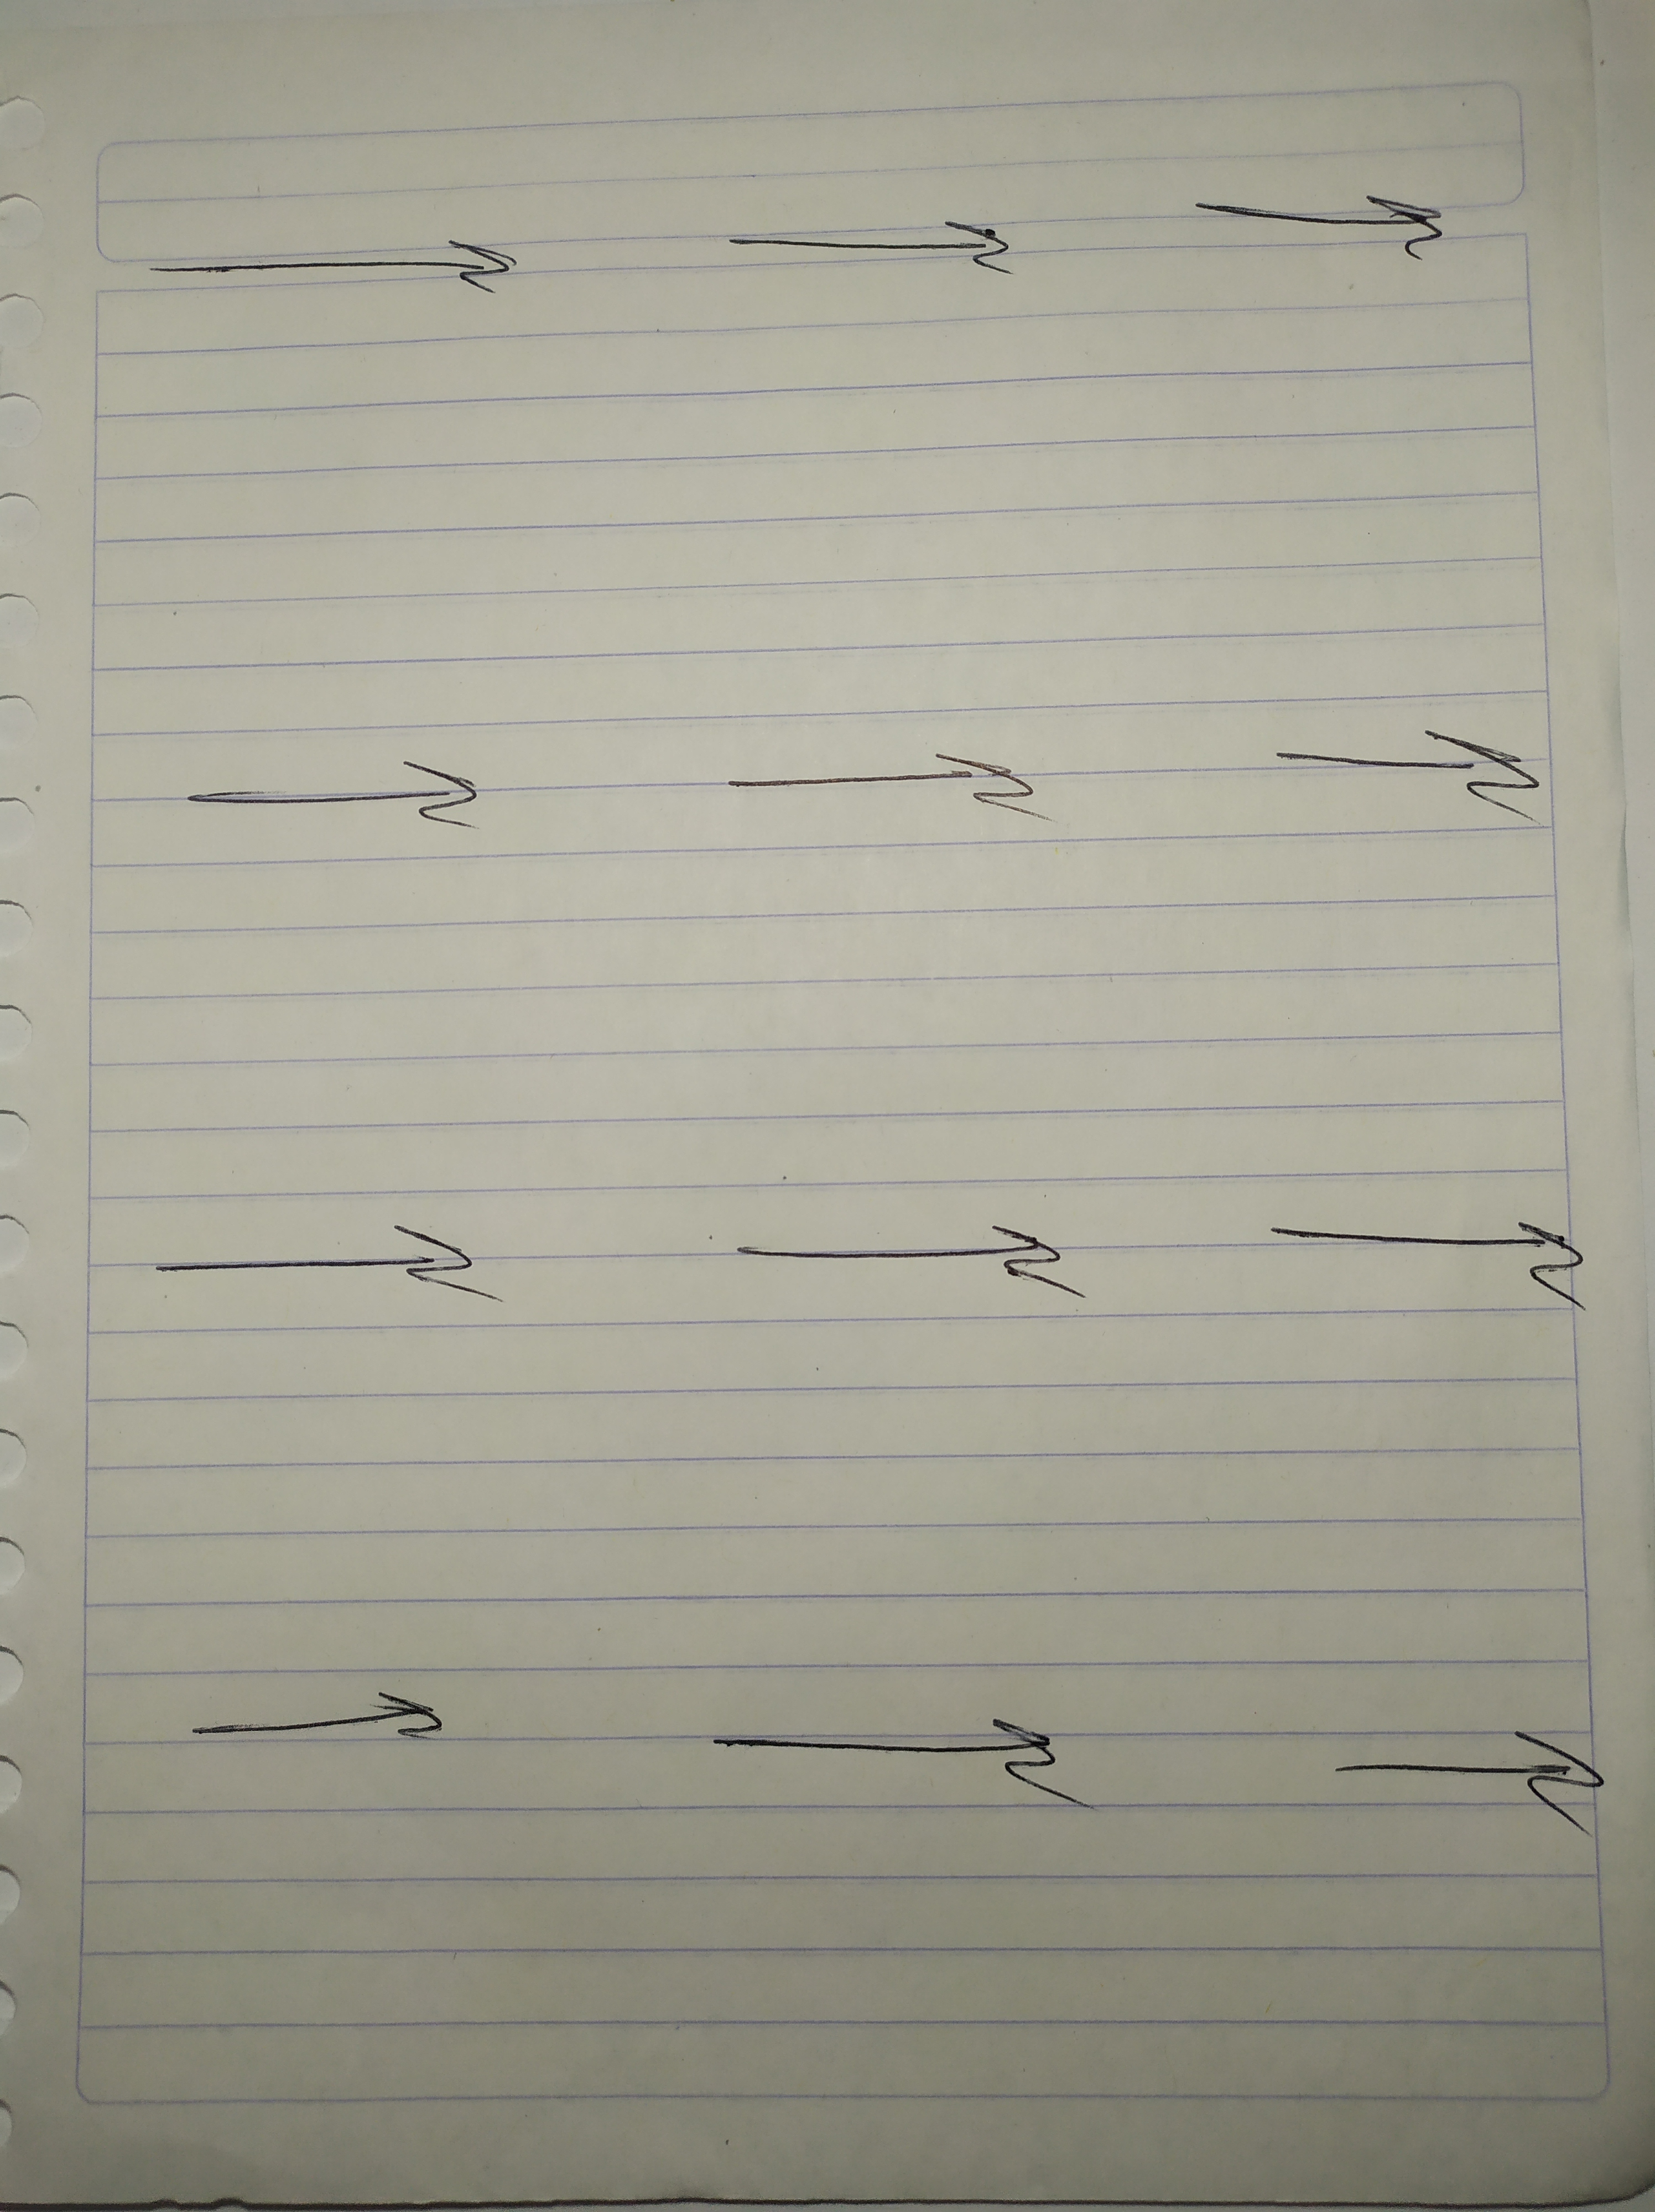arrow_line_right: (685, 1689, 1137, 1844), (1229, 1182, 1631, 1334), (697, 1180, 1113, 1322), (103, 1201, 511, 1341), (116, 207, 567, 332), (1283, 1712, 1639, 1868), (688, 726, 1102, 857), (1248, 688, 1591, 841), (1147, 163, 1490, 297), (160, 742, 535, 860), (165, 1666, 483, 1790), (697, 186, 1033, 301)
